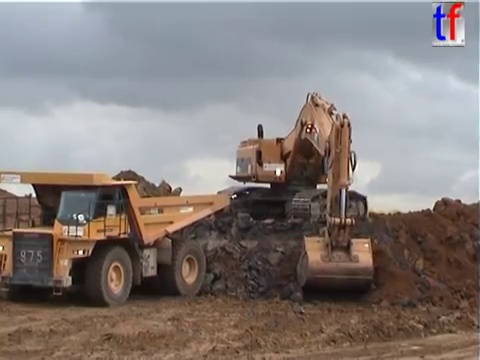excavator: (214, 90, 378, 293)
truck: (1, 169, 233, 309)
